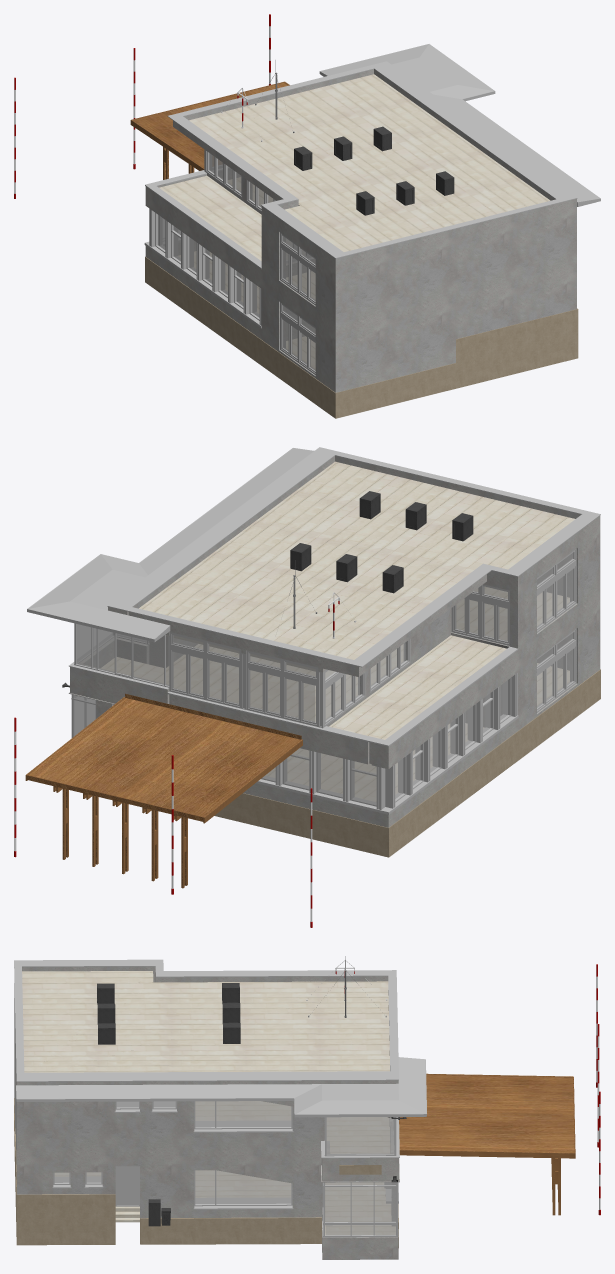
The model's file is house.obj.
3 renders of one model, top to bottom at view 1: azimuth 30°, elevation 25°; view 2: azimuth 150°, elevation 25°; view 3: azimuth 270°, elevation 25°, orthographic. The views are drawn at different scales.
Parts seen in each view (by area): view 1: Walls01, Floors01, Object003, Object002, Rectangle02, Window_frames01, sunshade01, Window_frames02, Window_glass01, Window_glass02, Rectangle01; view 2: Floors01, Walls01, sunshade01, Window_frames01, Window_glass01, Object002, Object003, Rectangle02, Window_frames02, Window_glass02, Rectangle01; view 3: Floors01, Walls01, sunshade01, Object002, Object003, Rectangle02, Window_glass01, Window_glass02, Rectangle01, Window_frames01, Window_frames02, Door01 (+2 smaller).
Boxes of the visible parts, <box> form: Walls01: <box>145,69,576,392</box>; Floors01: <box>159,74,550,368</box>; Object003: <box>145,256,578,418</box>; Object002: <box>145,61,577,268</box>; Rectangle02: <box>321,44,599,201</box>; Window_frames01: <box>144,149,275,328</box>; sunshade01: <box>130,81,289,179</box>; Window_frames02: <box>280,232,315,374</box>; Window_glass01: <box>158,153,273,317</box>; Window_glass02: <box>283,236,315,370</box>; Rectangle01: <box>319,44,600,206</box>; Floors01: <box>101,461,575,801</box>; Walls01: <box>68,456,600,827</box>; sunshade01: <box>25,693,302,888</box>; Window_frames01: <box>71,623,518,814</box>; Window_glass01: <box>73,624,507,805</box>; Object002: <box>69,447,600,746</box>; Object003: <box>214,669,600,857</box>; Rectangle02: <box>28,448,313,638</box>; Window_frames02: <box>451,549,576,712</box>; Window_glass02: <box>455,553,573,707</box>; Rectangle01: <box>27,448,314,642</box>; Floors01: <box>22,971,395,1235</box>; Walls01: <box>14,966,399,1259</box>; sunshade01: <box>399,1073,575,1215</box>; Object002: <box>14,959,399,1209</box>; Object003: <box>14,1098,398,1247</box>; Rectangle02: <box>17,1057,426,1114</box>; Window_glass01: <box>325,1117,398,1235</box>; Window_glass02: <box>54,1101,291,1203</box>; Rectangle01: <box>16,1057,426,1117</box>; Window_frames01: <box>322,1117,398,1237</box>; Window_frames02: <box>53,1101,292,1206</box>; Door01: <box>115,1166,139,1206</box>.
Bounding box in the file's own units: 10.9 × 6.73 × 16.34.
